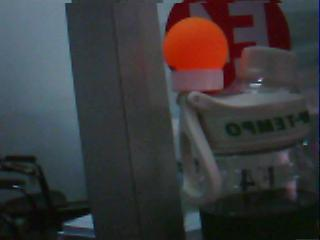oball: (162, 16, 228, 71)
